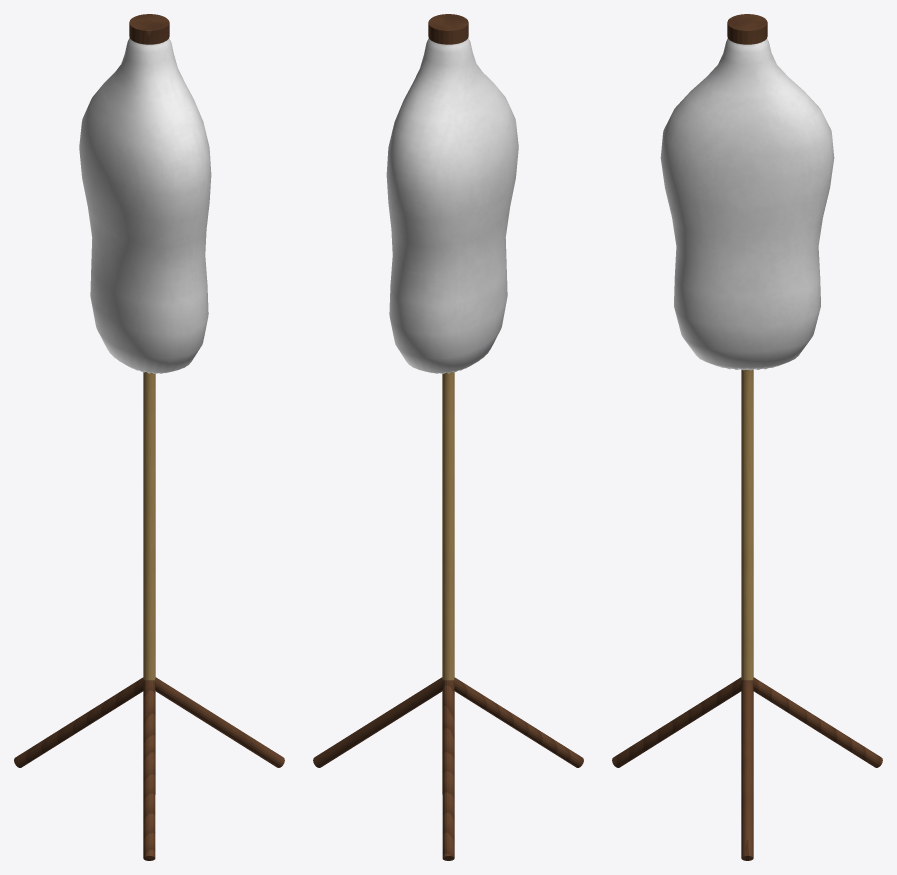
The model's file is black-brass.glb.
The picture shows the model from 3 angles, left to right: view 1: azimuth 30°, elevation 25°; view 2: azimuth 150°, elevation 25°; view 3: azimuth 270°, elevation 25°; orthographic projection.
Parts seen in each view (by area): view 1: fabric_primary_form, wood_z, brass; view 2: fabric_primary_form, wood_z, brass; view 3: fabric_primary_form, wood_z, brass.
Part boxes in pixels (x1,y1,x2,y2): fabric_primary_form: [79, 38, 211, 373]; wood_z: [14, 14, 284, 860]; brass: [143, 372, 155, 794]; fabric_primary_form: [386, 38, 518, 373]; wood_z: [313, 14, 583, 860]; brass: [442, 372, 454, 794]; fabric_primary_form: [660, 38, 834, 370]; wood_z: [612, 14, 882, 860]; brass: [741, 369, 753, 680].
Size of the model in its own units: 0.4687 by 1.7 by 0.5375.
Materials: 3 (3 with a texture image).
